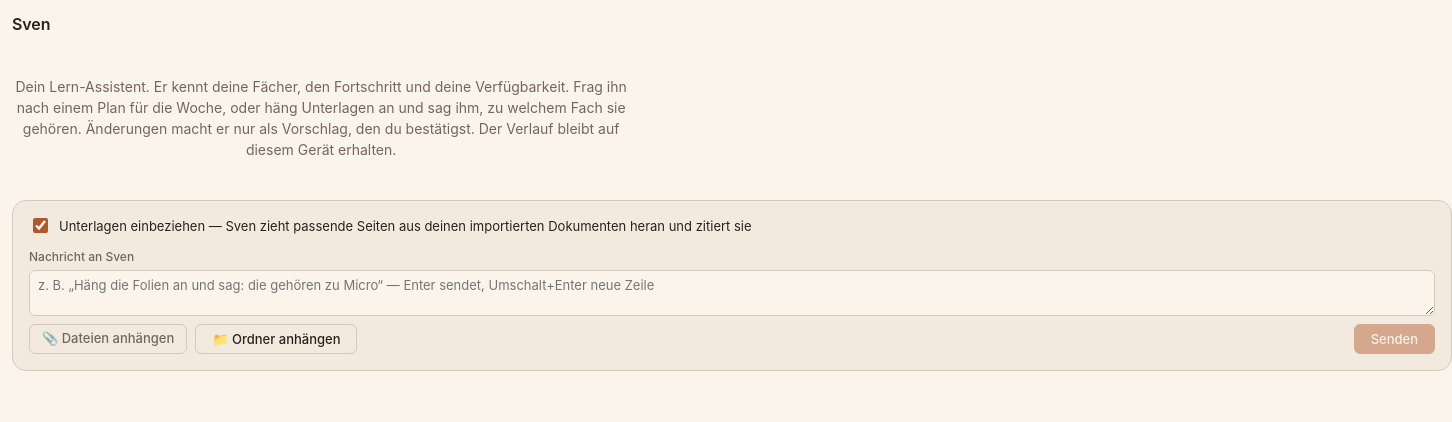
it: AssistantChat › hängt die Dateien eines Ordners als Chips an
Click the button "📁 Ordner anhängen": coordinates (276, 339) 195,324 -> 358,354
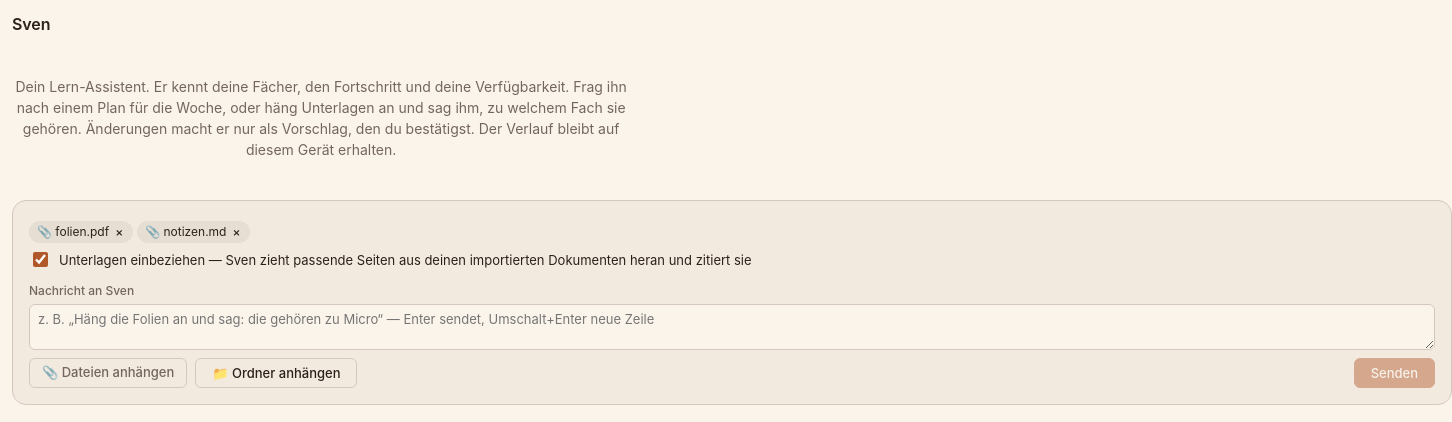
Expected: the element named "Angehängte Dateien" shows "folien.pdf", 55,224 -> 109,239
Expected: the element named "Angehängte Dateien" shows "notizen.md", 164,224 -> 226,239
